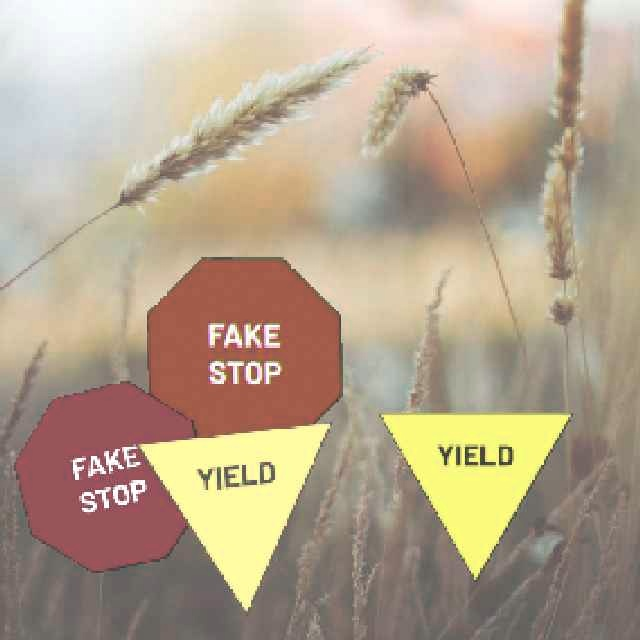FAKE_STOP: (145, 255, 341, 450), (11, 378, 207, 572)
YIELD: (135, 420, 331, 614), (376, 411, 572, 581)
